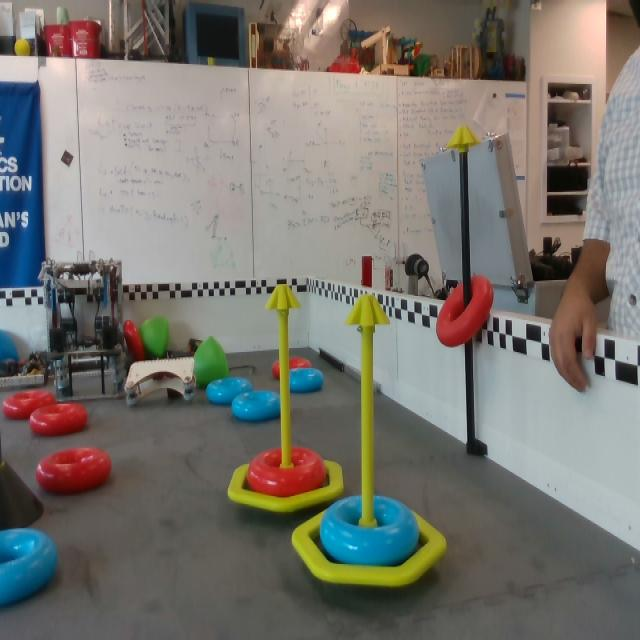Blue-Ring: (319, 496, 420, 565), (0, 528, 60, 611), (233, 391, 280, 421), (207, 377, 252, 405), (289, 369, 324, 395)
Mobile-Goal: (291, 296, 447, 587), (225, 282, 345, 516)
Red-Ring: (434, 271, 494, 351), (34, 449, 112, 494), (252, 447, 328, 493), (30, 404, 89, 436), (3, 391, 54, 417), (123, 320, 145, 361), (289, 357, 308, 369)
Yellow-Stake-Head: (344, 294, 391, 327), (264, 284, 302, 311), (446, 126, 481, 149)
